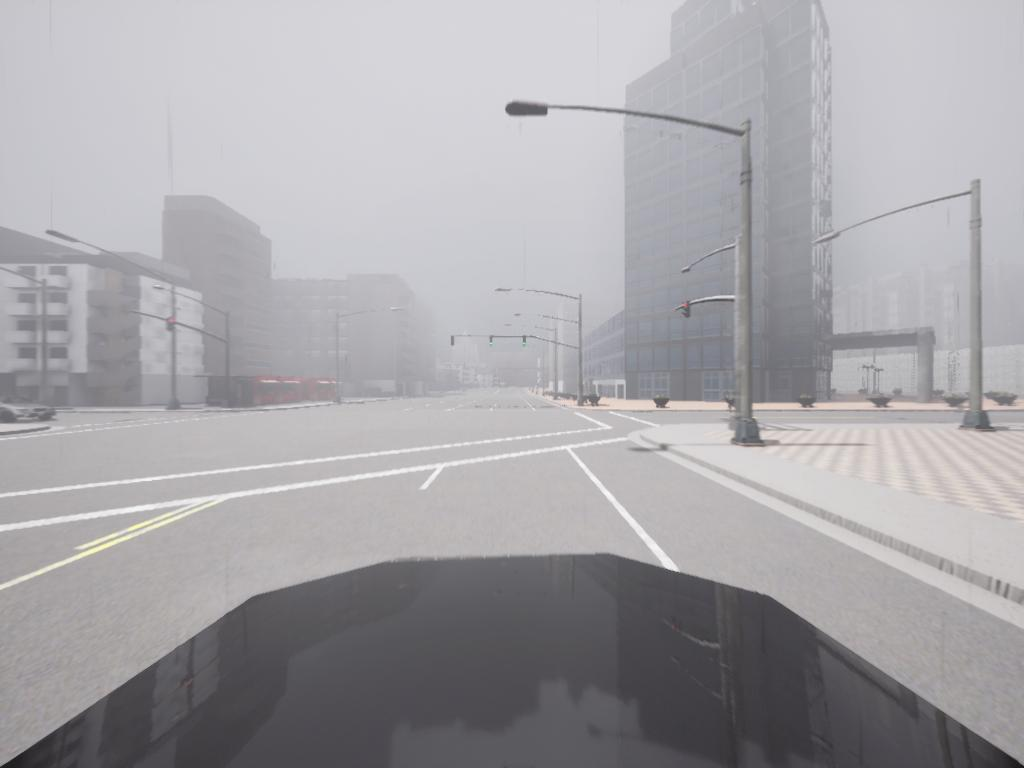traffic_light: (166, 318, 179, 335), (683, 299, 693, 320), (488, 335, 496, 348), (523, 334, 529, 348), (450, 338, 457, 348)
